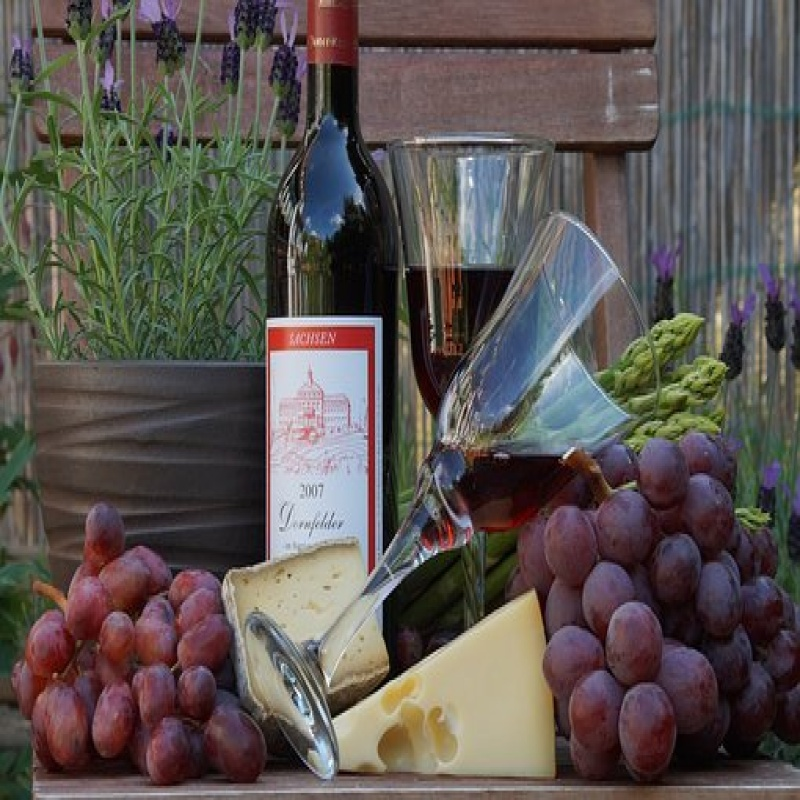wine: (259, 8, 391, 583)
